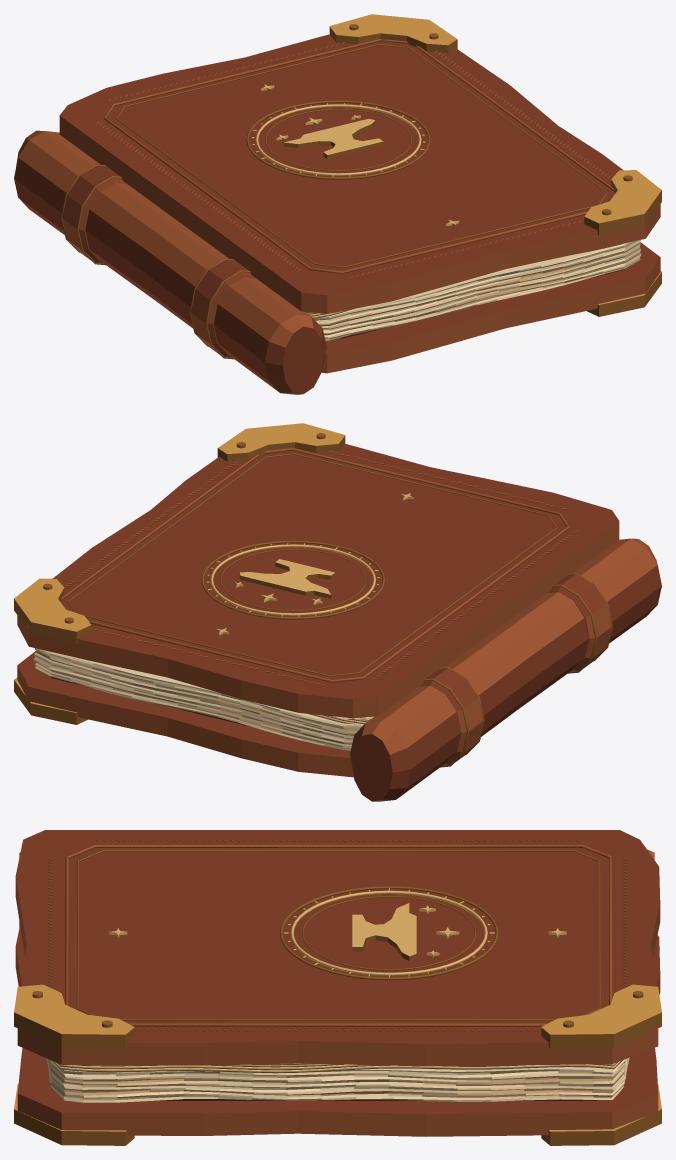
File: Book_Closed_Static.fbx
The picture shows the model from 3 angles, top to bottom: view 1: azimuth 30°, elevation 25°; view 2: azimuth 150°, elevation 25°; view 3: azimuth 270°, elevation 25°; orthographic projection. The views are drawn at different scales.
Parts seen in each view (by area): view 1: Кожа · крышка.008, Гранёный корешок.004, Кожа · крышка.009, Срез пергамента · справа.004, Тиснёная рамка.008, Латунный уголок.016, Латунный уголок.017, Поперечный кожаный бинт.009, Поперечный кожаный бинт.008, Тонкий контур.004, Тиснение · наковальня.004, Медальон · кольцо.012 (+3 smaller); view 2: Кожа · крышка.008, Гранёный корешок.004, Кожа · крышка.009, Срез пергамента · справа.004, Тиснёная рамка.008, Латунный уголок.017, Латунный уголок.016, Поперечный кожаный бинт.008, Поперечный кожаный бинт.009, Тонкий контур.004, Тиснение · наковальня.004, Медальон · кольцо.012 (+3 smaller); view 3: Кожа · крышка.008, Кожа · крышка.009, Срез пергамента · справа.004, Тиснёная рамка.008, Латунный уголок.017, Латунный уголок.016, Тонкий контур.004, Тиснение · наковальня.004, Правый форзац · пергамент.004, Латунный уголок.018, Латунный уголок.019, Медальон · кольцо.012 (+5 smaller).
Boxes of the visible parts, <box> form: Кожа · крышка.008: <box>59,34,660,313</box>; Гранёный корешок.004: <box>14,130,326,394</box>; Кожа · крышка.009: <box>321,242,660,373</box>; Срез пергамента · справа.004: <box>314,240,641,340</box>; Тиснёная рамка.008: <box>103,39,614,273</box>; Латунный уголок.016: <box>329,14,457,52</box>; Латунный уголок.017: <box>584,170,661,235</box>; Поперечный кожаный бинт.009: <box>62,165,126,263</box>; Поперечный кожаный бинт.008: <box>191,259,255,357</box>; Тонкий контур.004: <box>116,43,607,267</box>; Тиснение · наковальня.004: <box>283,119,383,159</box>; Медальон · кольцо.012: <box>246,100,430,179</box>; Кожа · крышка.008: <box>17,444,619,718</box>; Гранёный корешок.004: <box>350,538,661,801</box>; Кожа · крышка.009: <box>17,650,353,777</box>; Срез пергамента · справа.004: <box>33,648,363,750</box>; Тиснёная рамка.008: <box>60,448,569,682</box>; Латунный уголок.017: <box>217,423,345,461</box>; Латунный уголок.016: <box>14,578,91,643</box>; Поперечный кожаный бинт.008: <box>547,574,611,671</box>; Поперечный кожаный бинт.009: <box>419,668,483,765</box>; Тонкий контур.004: <box>67,453,557,676</box>; Тиснение · наковальня.004: <box>239,559,335,598</box>; Медальон · кольцо.012: <box>201,540,384,619</box>; Кожа · крышка.008: <box>15,830,660,1066</box>; Кожа · крышка.009: <box>15,926,660,1136</box>; Срез пергамента · справа.004: <box>46,1057,629,1102</box>; Тиснёная рамка.008: <box>65,844,612,1026</box>; Латунный уголок.017: <box>14,984,134,1048</box>; Латунный уголок.016: <box>541,984,661,1048</box>; Тонкий контур.004: <box>77,850,600,1020</box>; Тиснение · наковальня.004: <box>352,903,416,960</box>; Правый форзац · пергамент.004: <box>50,1060,622,1073</box>; Латунный уголок.018: <box>541,1084,661,1145</box>; Латунный уголок.019: <box>14,1083,134,1145</box>; Медальон · кольцо.012: <box>279,886,498,980</box>.
Bounding box in the file's own units: 3.1 × 0.8081 × 3.54.
